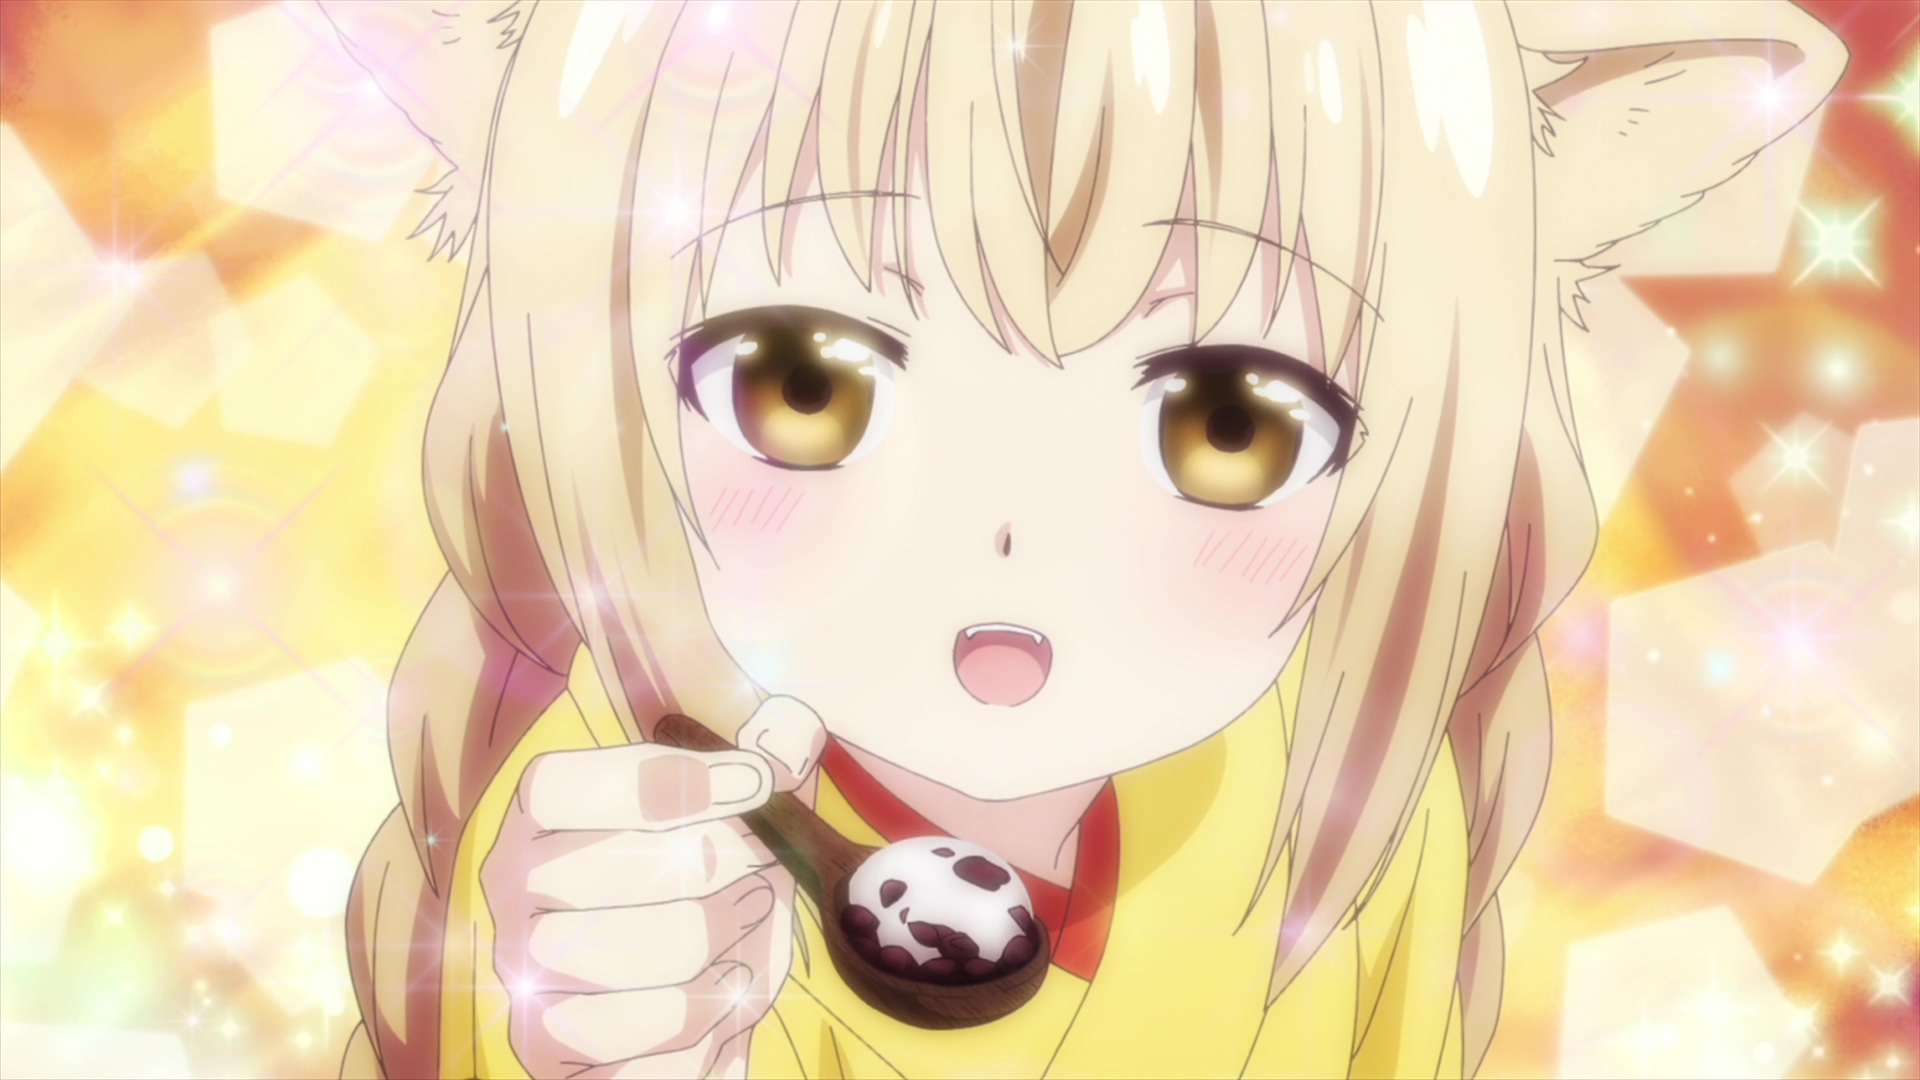柚: (314, 1, 1847, 1080)
